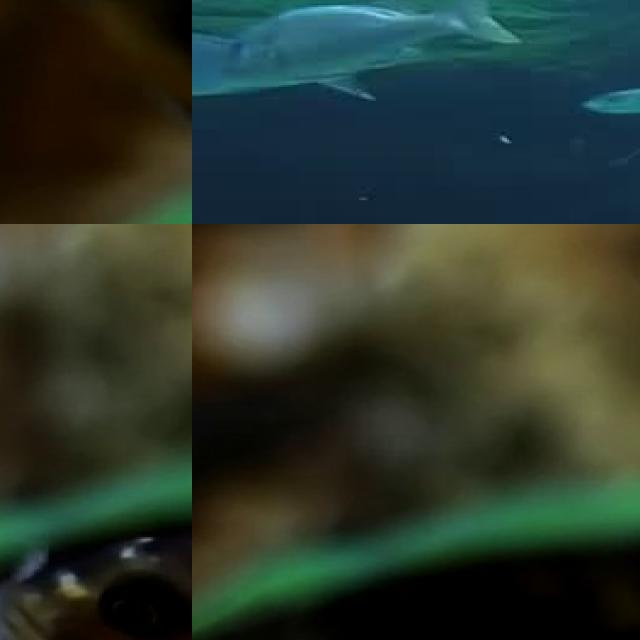fish: (0, 0, 192, 224), (192, 7, 233, 110)
